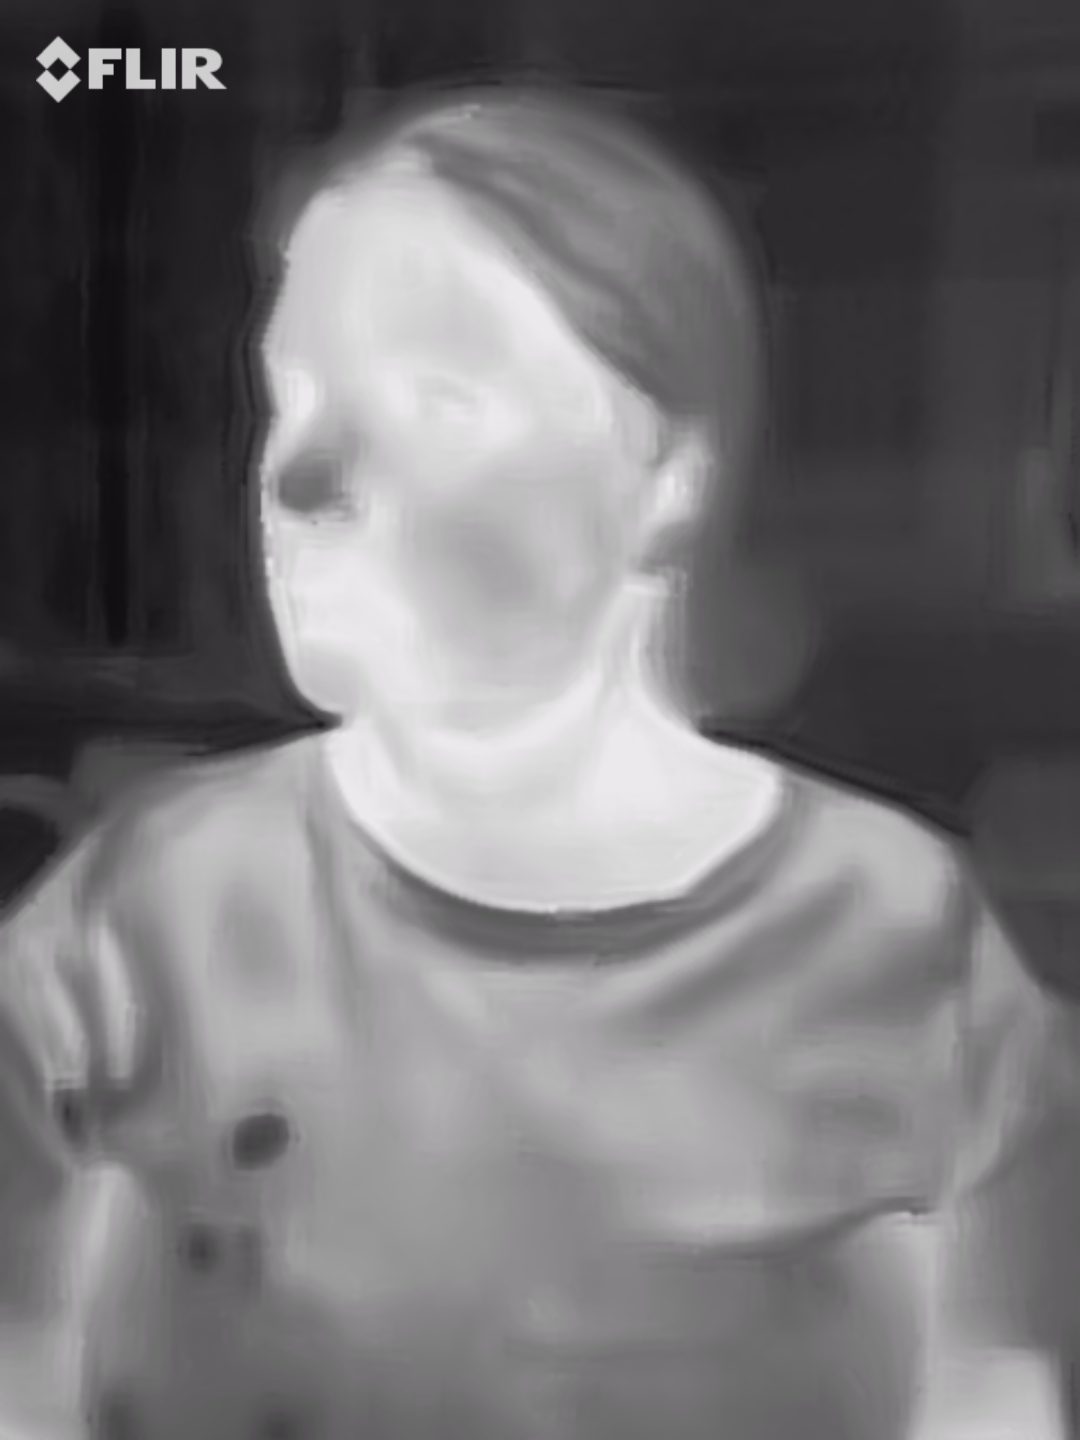head: (251, 90, 760, 756)
